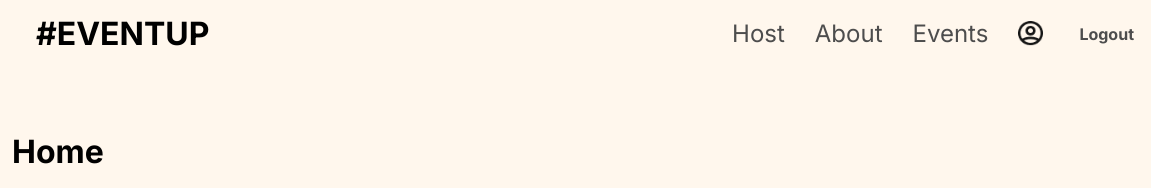
Test: Navbar Navigation Component › Navega para a página "About" ao clicar no link correspondente
The image size is (1151, 188).
expect the heading "Home" is shown: met, box top-left (12, 132), bottom-right (104, 171)
Click the link "About".
click(849, 34)  # box top-left (815, 19), bottom-right (882, 48)
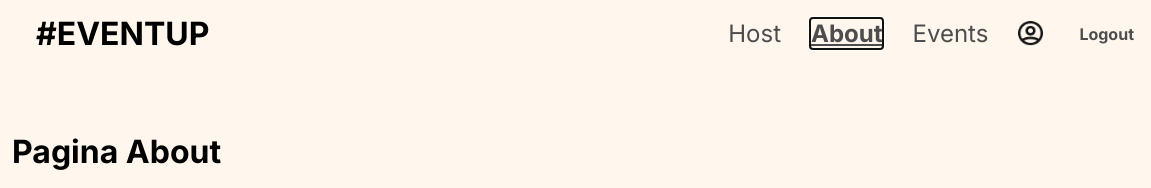
expect the heading "Home" is gone: met
expect the heading "Pagina About" is shown: met, box top-left (12, 132), bottom-right (221, 171)
